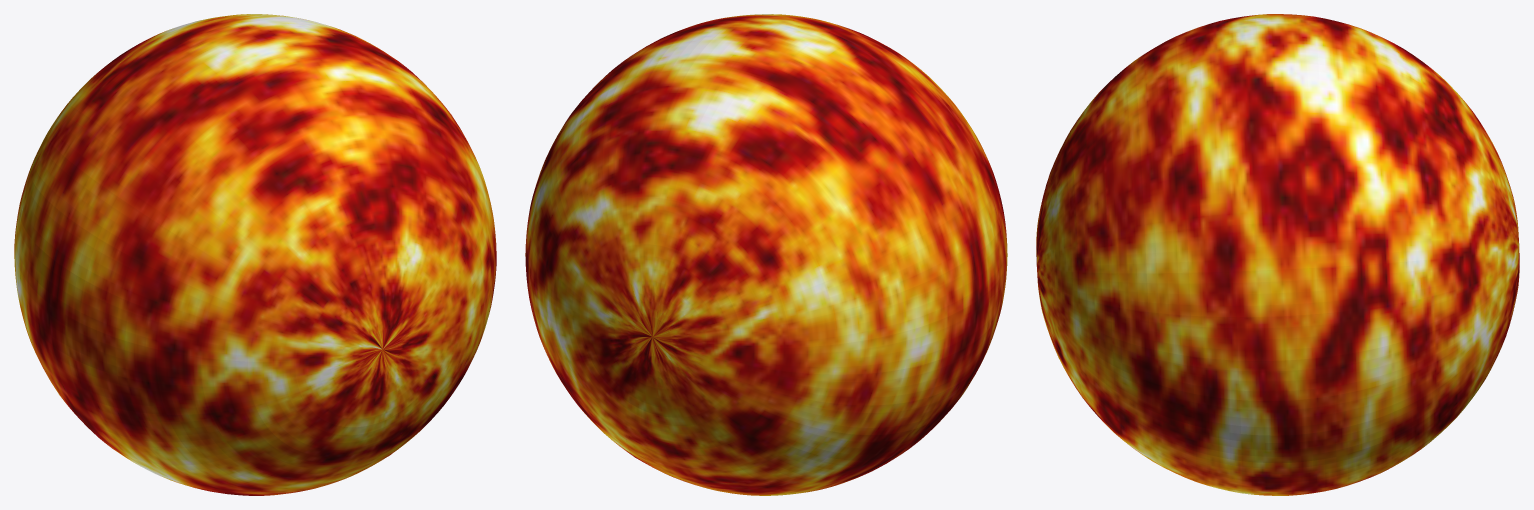
File: sun.obj
The picture shows the model from 3 angles, left to right: view 1: azimuth 30°, elevation 25°; view 2: azimuth 150°, elevation 25°; view 3: azimuth 270°, elevation 25°; orthographic projection.
Parts seen in each view (by area): view 1: Sphere.020; view 2: Sphere.020; view 3: Sphere.020.
Boxes of the visible parts, x1,y1,x2,y2 form: Sphere.020: (14,14,496,495); Sphere.020: (525,14,1007,495); Sphere.020: (1036,14,1519,495).
Size of the model in its own units: 1.98 by 1.98 by 1.99.
1 material, 1 textured.
